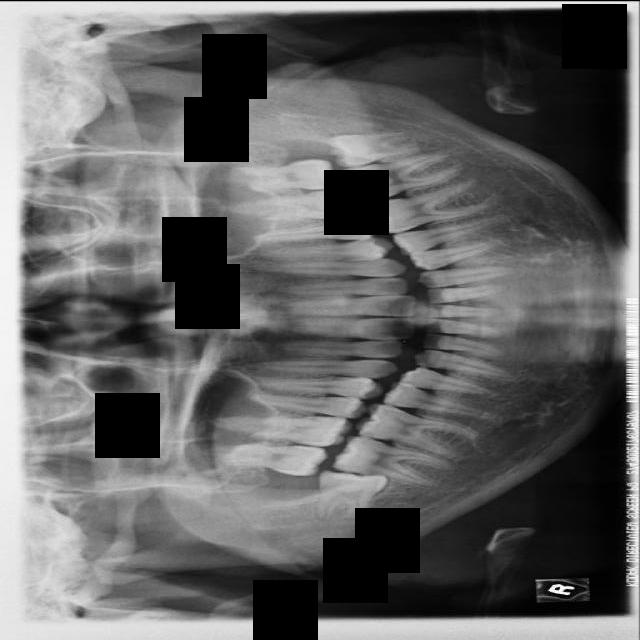73: (576, 36, 592, 44)
BioHorizons Implant: (209, 157, 339, 194)
Biomet 3i Implant: (326, 128, 419, 168)
Blue Sky Bio Implant: (343, 149, 462, 205)
Caries: (225, 441, 328, 477)
Implant: (331, 431, 451, 489)
Keystone Dental Implant: (315, 468, 387, 524)
